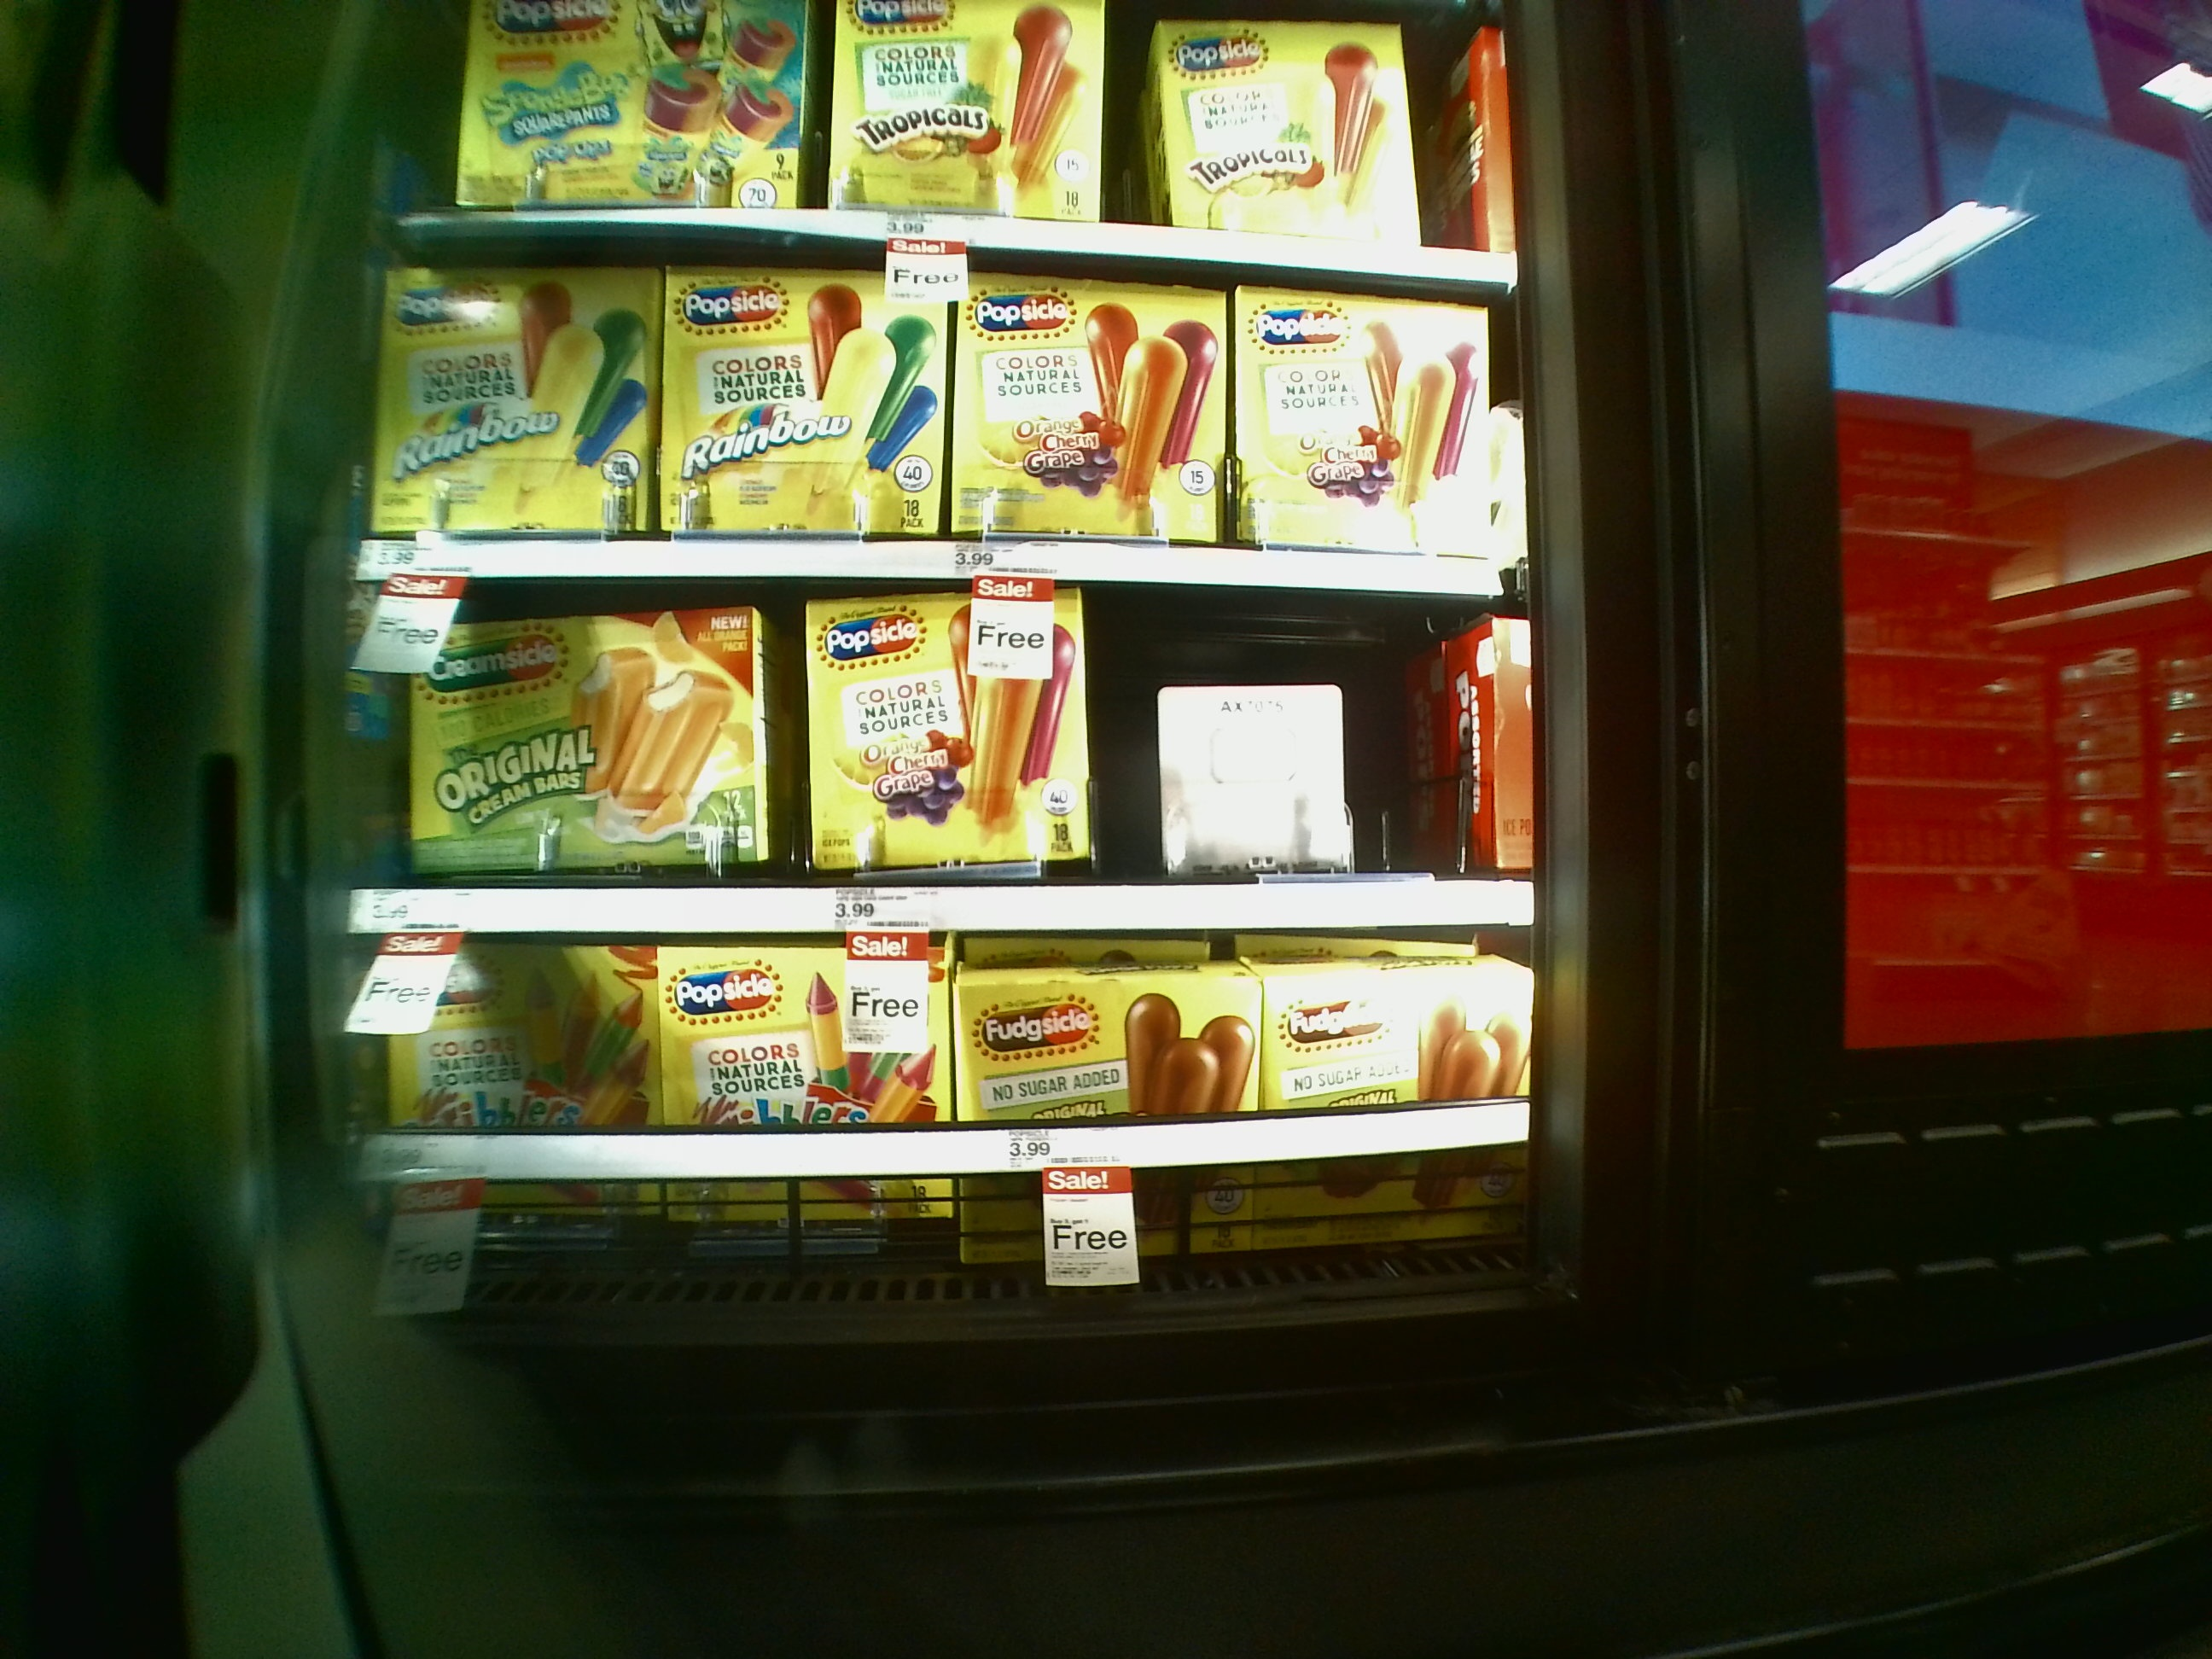shelf: (361, 938, 1538, 1326), (366, 234, 1500, 587), (362, 592, 1529, 925)
